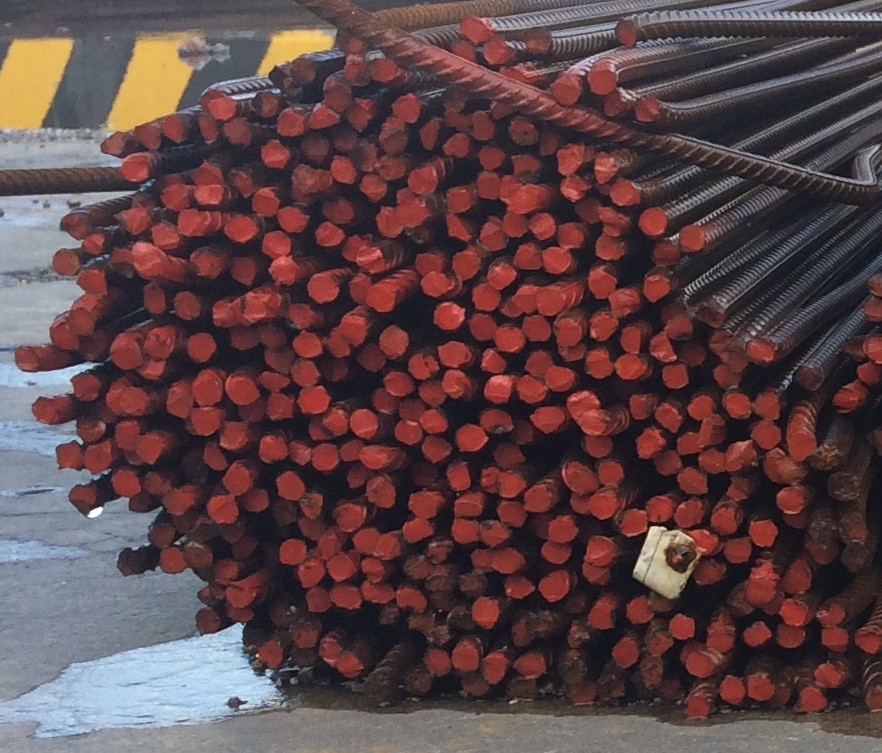dipstick: (132, 243, 166, 277), (193, 370, 223, 407), (226, 374, 260, 405), (510, 153, 544, 183), (111, 337, 142, 369), (189, 248, 222, 278), (366, 475, 396, 508), (539, 571, 570, 602), (378, 325, 408, 357), (563, 461, 595, 491), (508, 116, 540, 146), (300, 133, 330, 164), (396, 584, 428, 613), (828, 471, 860, 500), (567, 390, 600, 418), (408, 491, 443, 517), (82, 443, 112, 473), (326, 551, 356, 581), (479, 219, 509, 249), (509, 613, 539, 643), (223, 464, 252, 495), (588, 536, 619, 565), (636, 427, 665, 458), (307, 275, 339, 303), (333, 501, 365, 529), (207, 495, 237, 524), (188, 332, 217, 362), (338, 316, 368, 345), (484, 374, 514, 403), (380, 123, 409, 153), (556, 144, 585, 174), (50, 323, 81, 351), (434, 302, 465, 330), (407, 354, 439, 381), (438, 341, 471, 367), (530, 407, 563, 433), (479, 409, 513, 434), (71, 372, 100, 401), (134, 435, 163, 464), (233, 296, 262, 325), (350, 409, 379, 438), (442, 369, 471, 398), (370, 59, 399, 88), (550, 75, 579, 104), (151, 223, 181, 251), (264, 346, 294, 374), (358, 341, 386, 371), (497, 499, 527, 527), (346, 101, 374, 131), (225, 215, 256, 242), (422, 434, 453, 461), (377, 206, 404, 237), (451, 252, 482, 279), (473, 596, 499, 628), (492, 548, 524, 574), (491, 442, 524, 467), (114, 421, 142, 450), (298, 558, 326, 587), (203, 442, 232, 470), (219, 421, 248, 449), (259, 435, 288, 463), (262, 231, 291, 259), (494, 325, 524, 352), (536, 288, 566, 315), (163, 489, 194, 515), (298, 386, 329, 412), (383, 370, 414, 396), (323, 197, 354, 223), (596, 235, 629, 259), (159, 115, 187, 143), (277, 472, 305, 500), (178, 210, 206, 238), (424, 648, 452, 676), (459, 570, 487, 598), (261, 140, 289, 168), (392, 94, 420, 122), (121, 390, 150, 417), (111, 470, 140, 497), (230, 257, 257, 286), (480, 519, 509, 546), (496, 471, 525, 498), (366, 285, 395, 312), (356, 247, 385, 274), (650, 332, 677, 361), (752, 421, 781, 448), (686, 650, 715, 677), (360, 580, 394, 603), (269, 257, 299, 283), (160, 184, 190, 210), (456, 424, 486, 450), (418, 379, 448, 405), (595, 152, 621, 182), (655, 403, 681, 433), (786, 434, 816, 460), (330, 584, 361, 609), (376, 155, 407, 180), (401, 518, 433, 542), (541, 539, 573, 563), (227, 327, 260, 350), (32, 397, 60, 424), (290, 619, 317, 647), (166, 389, 193, 417), (173, 292, 200, 320), (311, 443, 339, 470), (472, 284, 500, 311), (468, 313, 496, 340), (549, 516, 577, 543), (517, 375, 545, 402), (522, 315, 550, 342), (586, 349, 613, 377), (639, 209, 667, 236), (750, 519, 777, 547), (711, 508, 738, 536), (821, 623, 848, 651), (842, 542, 869, 570), (855, 626, 882, 654), (120, 155, 149, 181), (190, 408, 219, 434), (293, 331, 322, 357), (122, 208, 151, 234), (278, 207, 307, 233), (324, 85, 353, 111), (626, 596, 655, 622), (616, 353, 645, 379), (719, 345, 748, 371), (775, 488, 804, 514), (677, 468, 706, 494), (77, 269, 107, 294), (325, 328, 350, 358), (504, 574, 534, 599), (513, 244, 543, 269), (53, 249, 80, 276), (160, 546, 187, 573), (299, 514, 326, 541), (373, 387, 400, 414), (542, 246, 569, 273), (525, 27, 552, 54), (718, 675, 745, 702), (746, 579, 773, 606), (184, 543, 212, 569), (453, 643, 479, 671), (470, 111, 496, 139), (678, 340, 706, 366), (747, 674, 775, 700), (780, 598, 806, 626), (814, 443, 842, 469), (291, 360, 320, 385), (481, 653, 506, 682), (545, 366, 574, 391), (513, 285, 538, 314), (688, 395, 717, 420), (578, 410, 608, 434), (797, 686, 827, 710), (514, 653, 545, 676), (227, 581, 254, 607), (251, 188, 278, 214), (353, 528, 380, 554), (360, 175, 387, 201), (524, 485, 550, 512), (596, 460, 623, 486), (529, 213, 556, 239), (621, 509, 647, 536), (643, 275, 670, 301), (461, 16, 488, 42), (77, 416, 105, 441), (278, 540, 306, 565), (315, 221, 343, 246), (305, 416, 333, 441), (394, 419, 422, 444), (294, 164, 322, 189), (397, 201, 425, 226), (488, 264, 516, 289), (560, 175, 588, 200), (588, 69, 616, 94), (724, 393, 752, 418), (675, 501, 703, 526), (452, 518, 481, 542), (408, 170, 437, 194), (610, 177, 634, 206), (192, 161, 223, 183), (257, 641, 283, 667), (284, 302, 310, 328), (589, 494, 615, 520), (748, 339, 774, 365), (57, 441, 82, 468), (148, 523, 175, 548), (305, 587, 332, 612), (212, 301, 237, 328), (322, 406, 347, 433), (334, 653, 361, 678), (252, 91, 279, 116), (342, 235, 367, 262), (502, 212, 529, 237), (646, 496, 673, 521), (629, 392, 654, 419), (743, 621, 770, 646), (61, 215, 89, 239), (224, 119, 252, 143), (447, 461, 471, 489), (332, 155, 356, 183), (526, 350, 554, 374), (589, 316, 617, 340), (477, 171, 501, 199), (421, 272, 450, 295), (68, 309, 94, 334), (14, 346, 39, 372), (267, 394, 293, 419), (277, 111, 303, 136), (609, 292, 635, 317), (669, 614, 695, 639), (815, 663, 841, 688), (195, 116, 219, 143), (299, 492, 323, 519), (359, 444, 386, 468), (403, 553, 430, 577), (778, 623, 805, 647), (454, 493, 482, 516), (583, 435, 612, 457), (135, 125, 160, 150), (69, 485, 94, 510), (339, 436, 364, 461), (554, 319, 579, 344), (574, 197, 599, 222), (725, 537, 750, 562), (196, 608, 220, 634), (361, 558, 387, 582), (588, 274, 614, 298), (755, 393, 779, 419), (831, 389, 857, 413), (858, 361, 882, 387), (102, 132, 129, 155), (345, 63, 372, 86), (449, 41, 476, 64), (195, 182, 223, 204), (421, 410, 449, 432), (476, 146, 504, 168), (420, 119, 441, 148), (244, 488, 269, 512), (228, 171, 252, 196), (400, 398, 424, 423), (482, 348, 507, 372), (636, 97, 661, 121), (793, 366, 817, 391), (700, 448, 724, 473), (620, 327, 643, 353), (198, 584, 225, 606), (142, 286, 164, 313), (415, 252, 442, 274), (443, 133, 470, 155), (322, 360, 350, 381), (214, 559, 238, 583), (288, 440, 312, 464), (291, 58, 315, 82), (567, 622, 591, 646), (484, 40, 508, 64), (662, 364, 686, 388), (708, 629, 732, 653), (375, 534, 400, 557), (612, 643, 637, 666), (655, 451, 680, 474), (680, 226, 703, 251), (588, 608, 614, 630), (817, 602, 843, 624), (783, 570, 809, 592), (208, 98, 235, 119), (652, 245, 679, 266), (616, 18, 637, 45), (665, 318, 692, 339), (557, 224, 581, 247), (447, 188, 469, 213), (677, 432, 702, 453), (198, 89, 223, 109), (862, 337, 882, 362), (479, 466, 498, 492), (83, 232, 105, 254), (570, 493, 592, 515), (318, 639, 341, 660), (556, 343, 583, 360), (604, 89, 623, 113), (687, 698, 709, 716)
